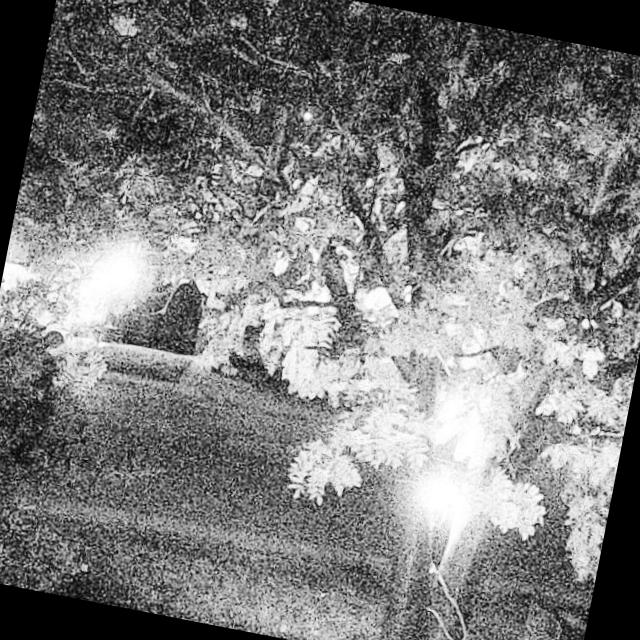Tree: (204, 0, 640, 640)
